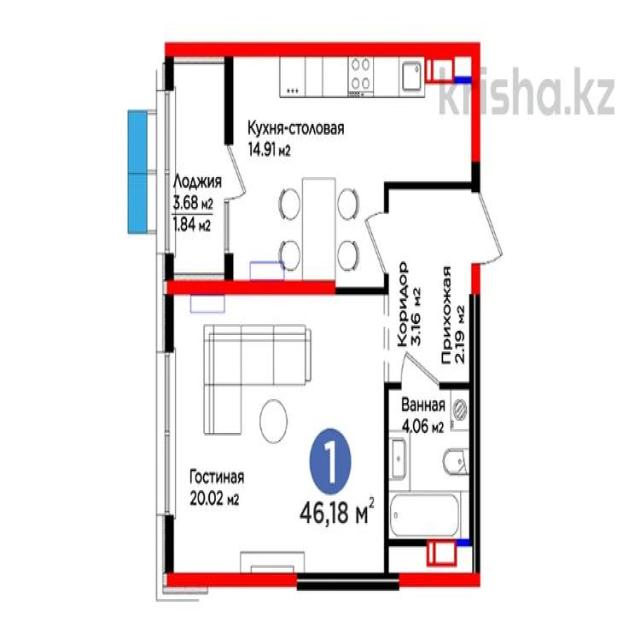balcony: (170, 54, 228, 283)
bathroom: (385, 388, 471, 546)
hallway: (384, 182, 470, 382)
kitchen: (230, 51, 386, 289)
living_room: (169, 294, 386, 578)
